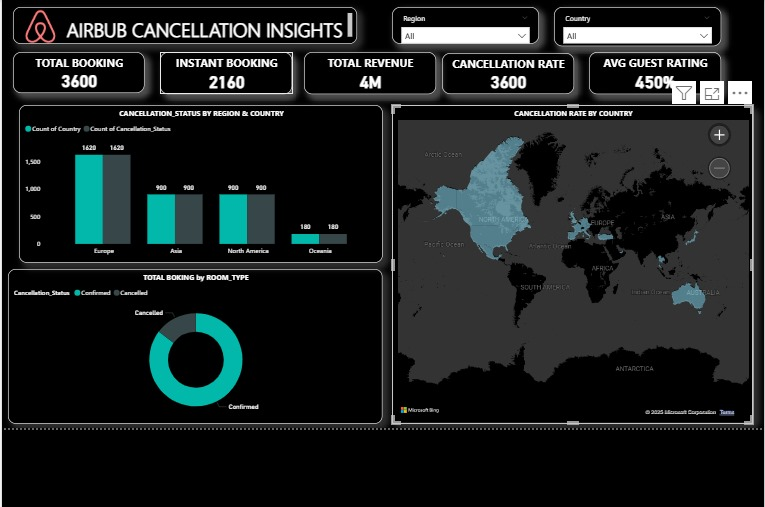

The page's visual inventory and layout, read from the dashboard file:
{"tool":"powerbi","page":{"name":"page 2","canvas":[1280,720],"ordinal":1},"visuals":[{"type":"donutChart","title":"TOTAL BOKING by ROOM_TYPE","fields":{"Y":["CountNonNull(airbnb_global_dataset.Room_Type)"],"Category":["airbnb_global_dataset.Cancellation_Status"]},"box":[10.8,454.3,629.2,259.6],"z":0},{"type":"card","title":"TOTAL BOOKING","fields":{"Values":["airbnb_global_dataset.TOTAL BOKING"]},"box":[18.5,89.6,221.1,69.2],"z":1000},{"type":"card","title":"TOTAL REVENUE","fields":{"Values":["airbnb_global_dataset.total revenue"]},"box":[507.3,89,221.7,70.6],"z":2000},{"type":"card","title":"AVG GUEST RATING","fields":{"Values":["airbnb_global_dataset.AVG GUEST RATING"]},"box":[986,89,221.7,70.6],"z":3000},{"type":"image","box":[10.7,9.7,109.1,72.1],"z":4000},{"type":"card","title":"CANCELLATION RATE","fields":{"Values":["airbnb_global_dataset.INSTANT BOKING"]},"box":[739.1,90.7,221.7,68.9],"z":5000},{"type":"textbox","box":[18.5,13.4,577.8,62.2],"z":6000},{"type":"slicer","fields":{"Values":["airbnb_global_dataset.Region"]},"box":[655.1,13.4,246.9,62.2],"z":7000},{"type":"slicer","fields":{"Values":["airbnb_global_dataset.Country"]},"box":[927.2,13.4,280.5,65.5],"z":8000},{"type":"clusteredColumnChart","title":"CANCELLATION_STATUS BY REGION & COUNTRY","fields":{"Y":["CountNonNull(airbnb_global_dataset.Country)","CountNonNull(airbnb_global_dataset.Cancellation_Status)"],"Category":["airbnb_global_dataset.Region"]},"box":[28.8,178.5,611.2,265],"z":9000},{"type":"filledMap","title":"CANCELLATION RATE BY COUNTRY","fields":{"Category":["airbnb_global_dataset.Country"]},"box":[654.4,178.5,607.5,535.4],"z":10000},{"type":"card","title":"INSTANT BOOKING","fields":{"Values":["airbnb_global_dataset.Instant Bookings"]},"box":[265.8,88.6,222.4,70.5],"z":11000}]}

Visuals, with their boxes on the page's 1280x720 design canvas (x1, y1, x2, y2). These are canvas units, not pixel positions in the 765x507 screenshot, which may show the page scaled, cropped or inside an application window:
"TOTAL BOKING by ROOM_TYPE" donutChart: crop(11, 454, 640, 714)
"TOTAL BOOKING" card: crop(18, 90, 240, 159)
"TOTAL REVENUE" card: crop(507, 89, 729, 160)
"AVG GUEST RATING" card: crop(986, 89, 1208, 160)
image: crop(11, 10, 120, 82)
"CANCELLATION RATE" card: crop(739, 91, 961, 160)
textbox: crop(18, 13, 596, 76)
slicer - airbnb_global_dataset.Region: crop(655, 13, 902, 76)
slicer - airbnb_global_dataset.Country: crop(927, 13, 1208, 79)
"CANCELLATION_STATUS BY REGION & COUNTRY" clusteredColumnChart: crop(29, 178, 640, 444)
"CANCELLATION RATE BY COUNTRY" filledMap: crop(654, 178, 1262, 714)
"INSTANT BOOKING" card: crop(266, 89, 488, 159)
